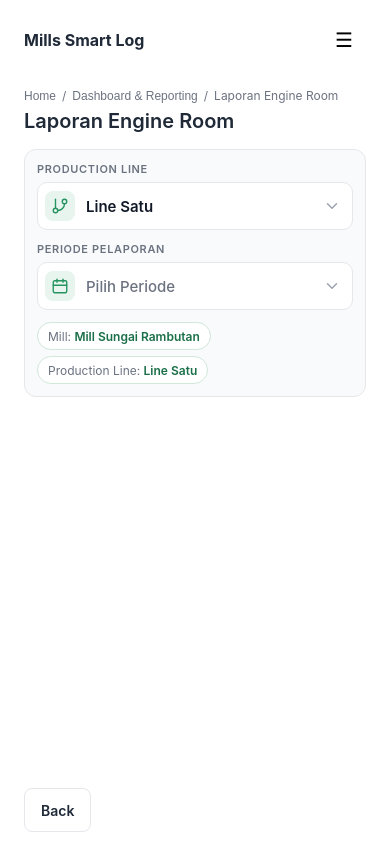
Scenario: jalur sukses › skenario 1/2: operator — seluruh bagian laporan terender, TANPA pemilih mill
The width and height of the screenshot is (390, 844).
Select "Engine Room — Periode Uji Engine Room" in the dropdown with test id "period-select": (195, 286) [37, 262, 353, 310]
(page scrolled)
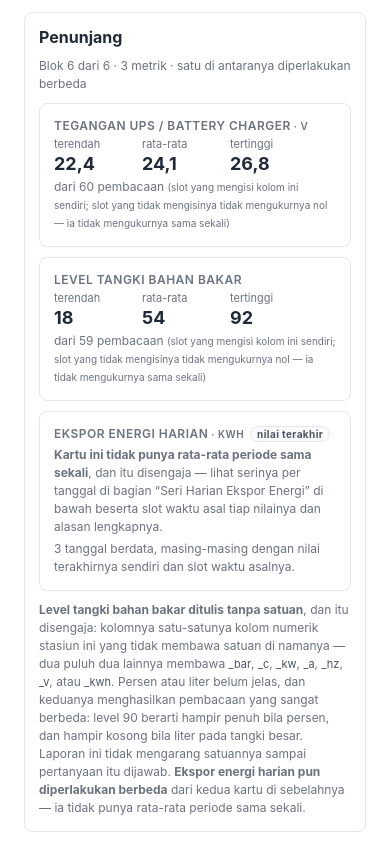
Check: the element with test id "metric-block-auxiliary" shows "Penunjang", box [39, 27, 122, 47]
